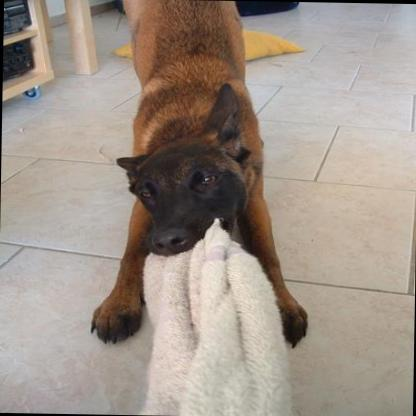malinois: (82, 0, 310, 346)
